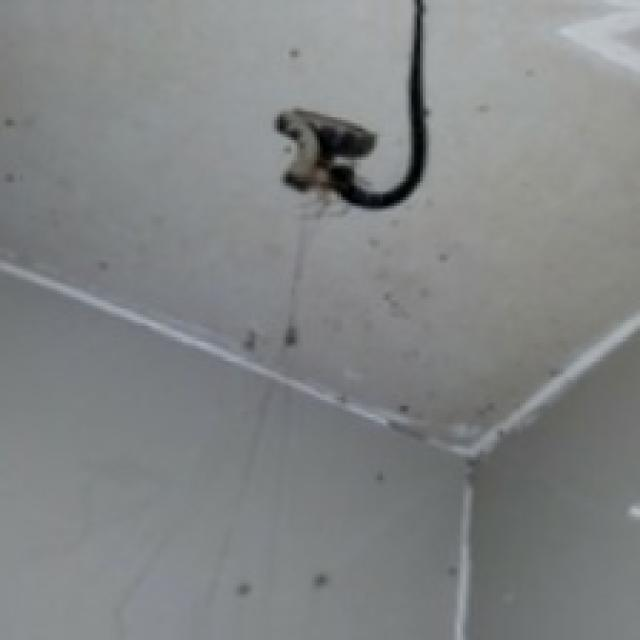gunthers philippine shrub snake: (277, 0, 423, 206), (274, 109, 374, 186)
